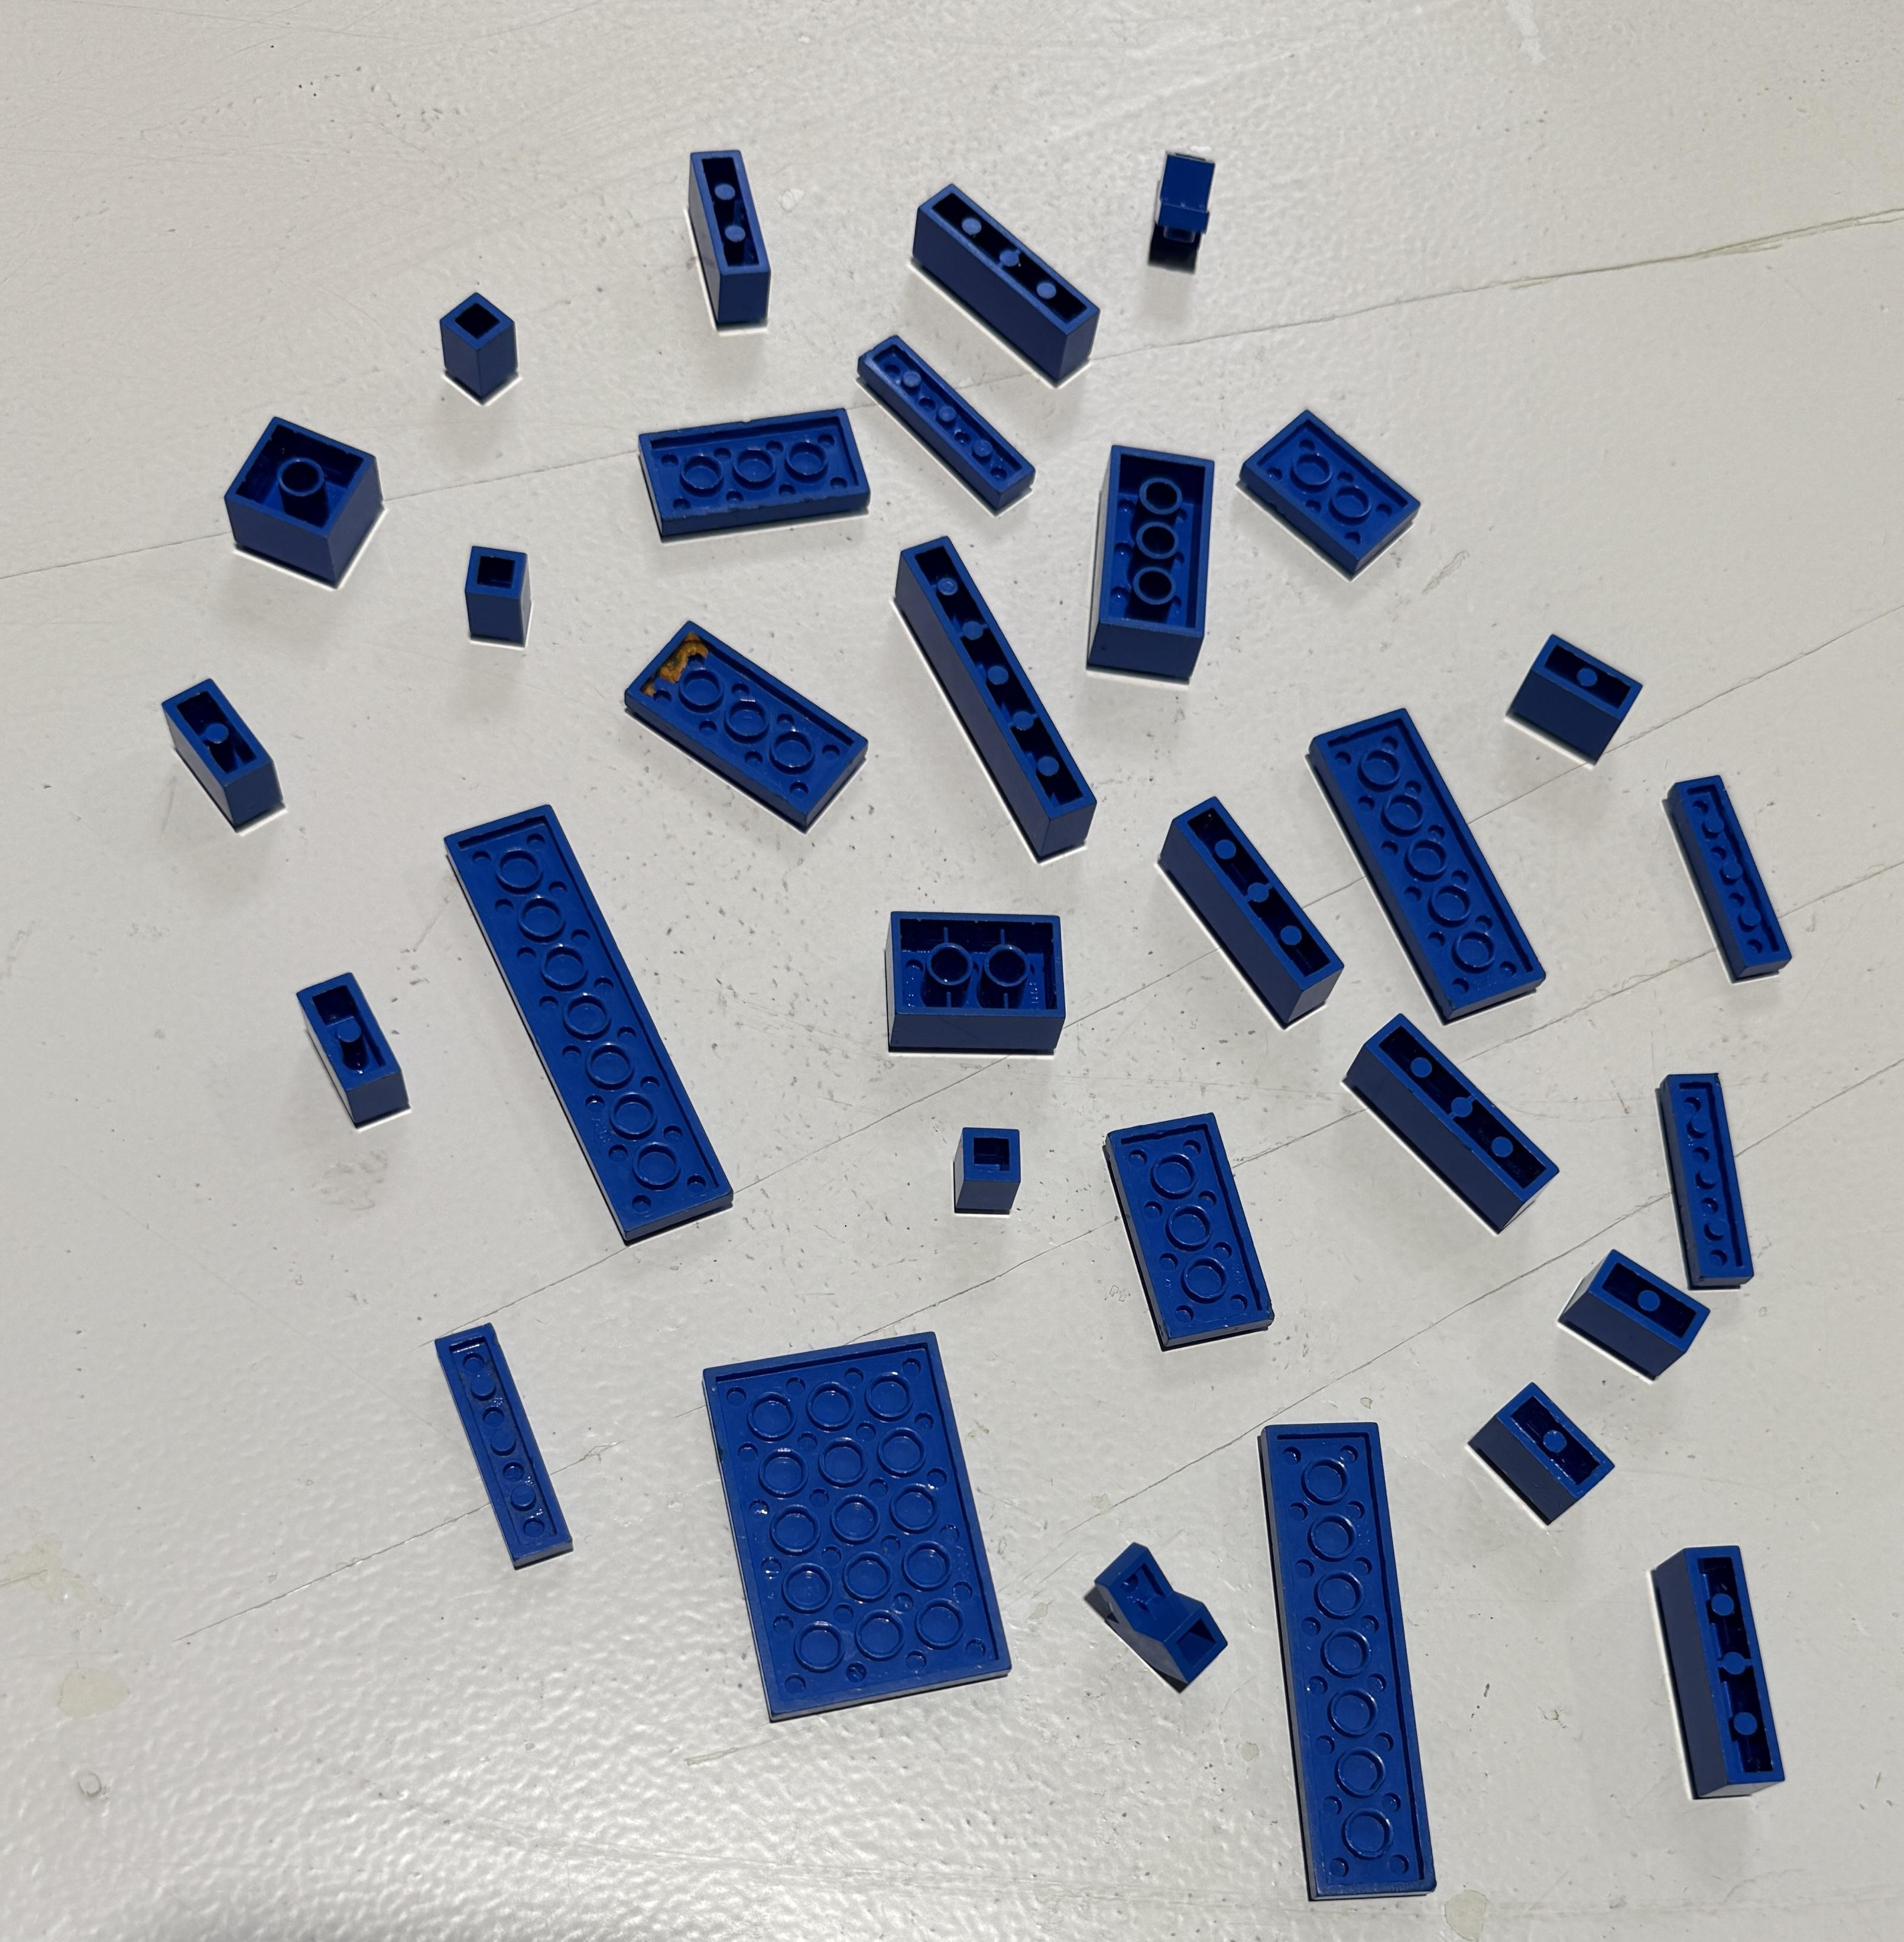brick_1x1: (429, 507, 567, 671), (417, 284, 551, 425), (940, 1091, 1039, 1245)
brick_1x2: (136, 640, 319, 854), (1531, 1227, 1733, 1398), (269, 947, 434, 1149), (1498, 593, 1649, 791), (1468, 1375, 1649, 1534)
brick_1x3: (654, 113, 799, 342)
brick_1x4: (1322, 997, 1580, 1259), (1139, 776, 1355, 1044), (1625, 1525, 1806, 1829), (896, 160, 1118, 404)
brick_2x2: (213, 385, 398, 593)
brick_2x3: (860, 882, 1098, 1090)
brick_2x4: (1067, 427, 1238, 690)
